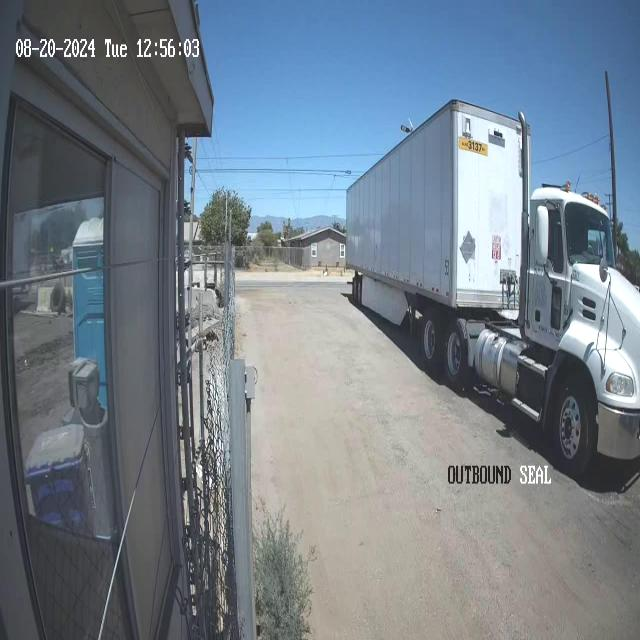TRUCK_CONTAINER: (345, 97, 639, 479)
